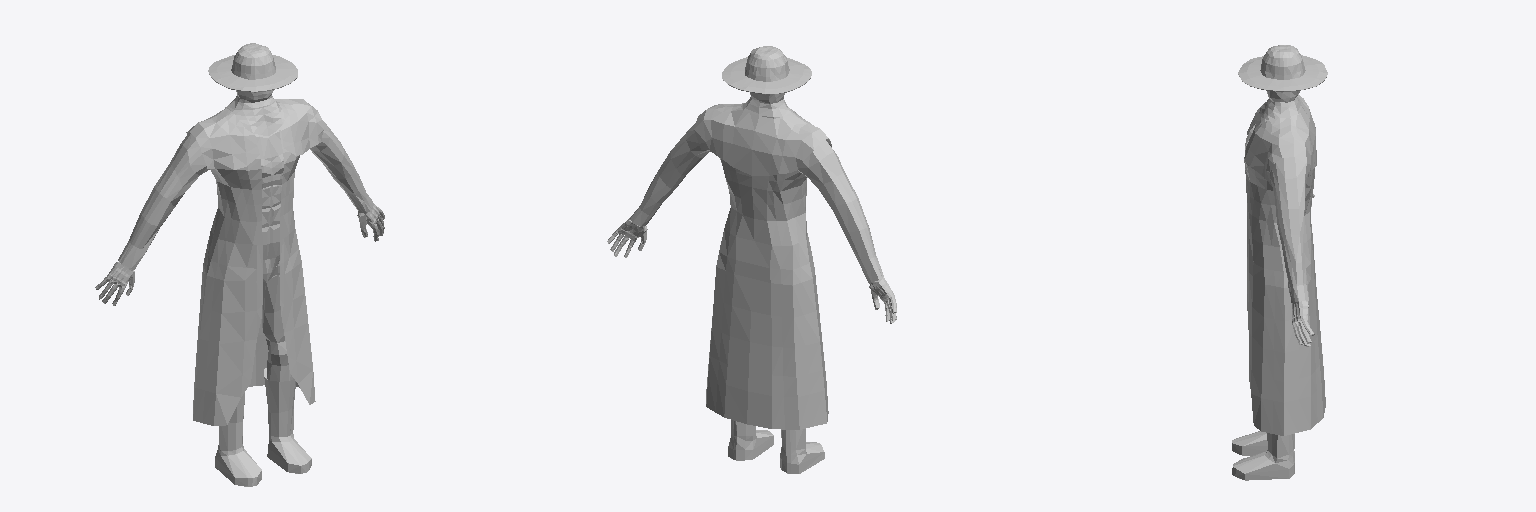
File: character.obj
3 renders of one model, left to right at view 1: azimuth 30°, elevation 25°; view 2: azimuth 150°, elevation 25°; view 3: azimuth 270°, elevation 25°, orthographic.
Visible parts, largest first — view 1: character group1; view 2: character group1; view 3: character group1.
Boxes of the visible parts, x1=… form: character group1: x1=95, y1=43, x2=384, y2=486; character group1: x1=607, y1=46, x2=896, y2=473; character group1: x1=1232, y1=45, x2=1327, y2=480.
Size of the model in its own units: 1.41 by 1.93 by 0.4054.